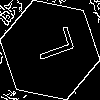L: (25, 25, 75, 66)
